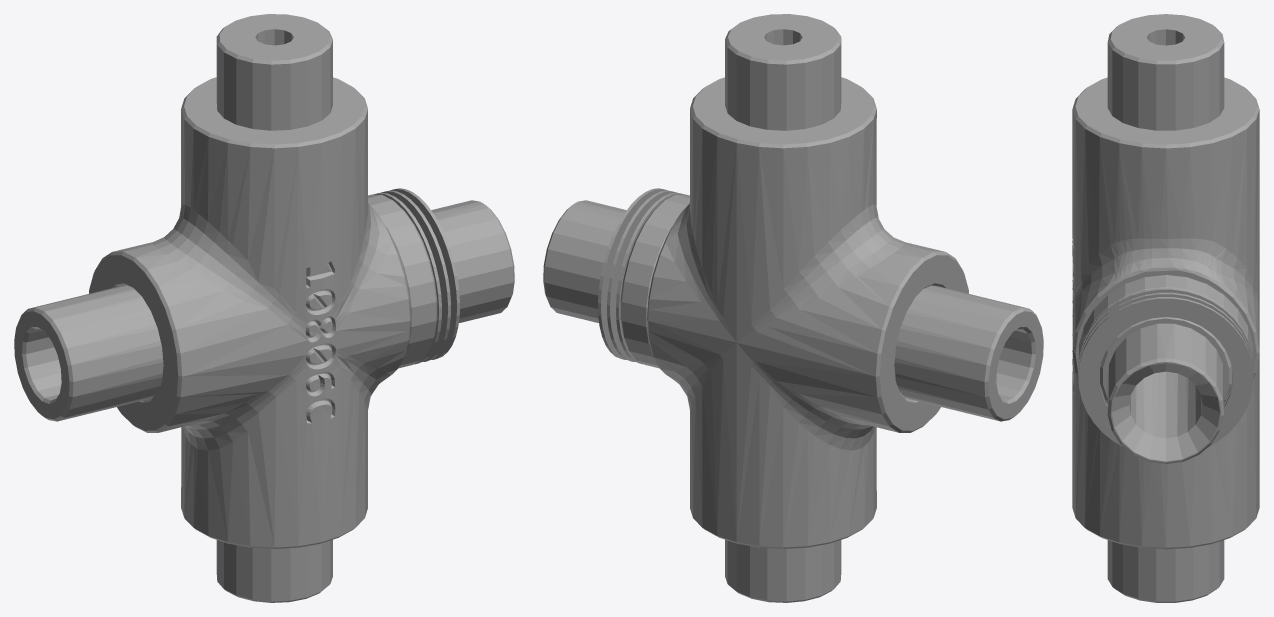
Rendered from toe-pitch.obj.
3 renders of one model, left to right at view 1: azimuth 30°, elevation 25°; view 2: azimuth 150°, elevation 25°; view 3: azimuth 270°, elevation 25°, orthographic.
Visible parts, largest first — view 1: toe-pitch; view 2: toe-pitch; view 3: toe-pitch.
Boxes of the visible parts, x1,y1,x2,y2 form: toe-pitch: (14,14,514,602); toe-pitch: (543,14,1043,602); toe-pitch: (1072,14,1259,602).
Bounding box in the file's own units: 0.044 × 0.0512 × 0.016.
1 material, 1 textured.
